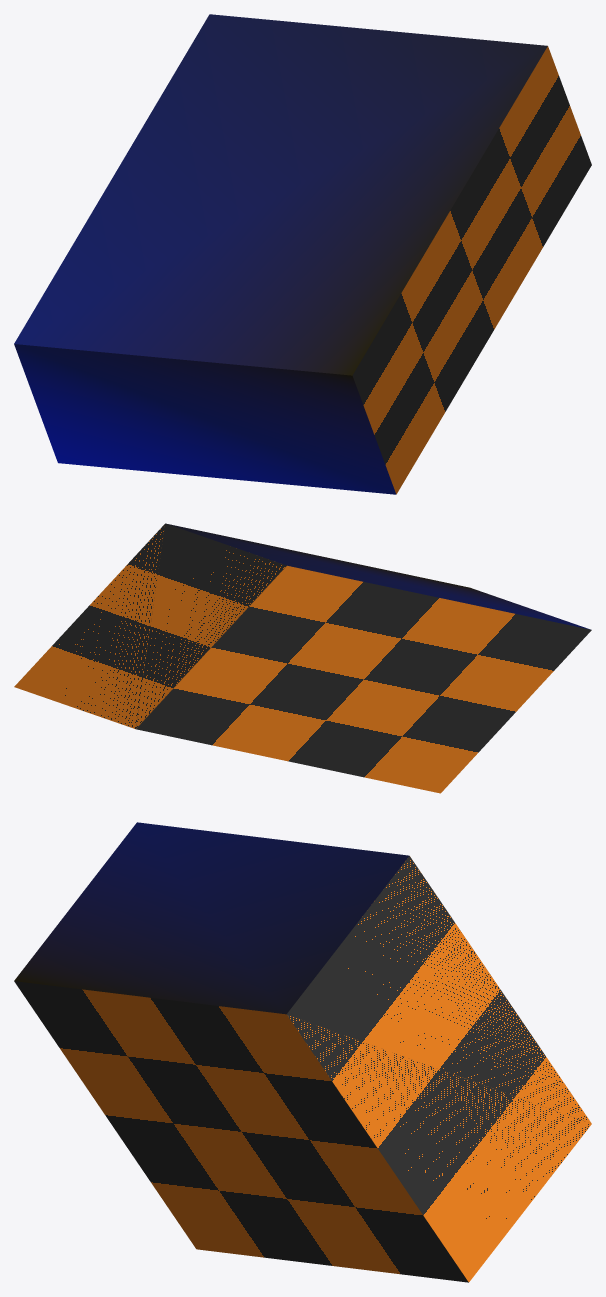
File: box_embedded_ascii.fbx
3 renders of one model, top to bottom at view 1: azimuth 30°, elevation 25°; view 2: azimuth 150°, elevation 25°; view 3: azimuth 270°, elevation 25°, orthographic. The views are drawn at different scales.
Visible parts, largest first — view 1: box; view 2: box; view 3: box.
Boxes of the visible parts, x1=… form: box: x1=14, y1=14, x2=591, y2=494; box: x1=14, y1=523, x2=591, y2=793; box: x1=14, y1=822, x2=591, y2=1282.
Size of the model in its own units: 2.97 by 1.52 by 2.18.
Materials: 2 (1 with a texture image).
